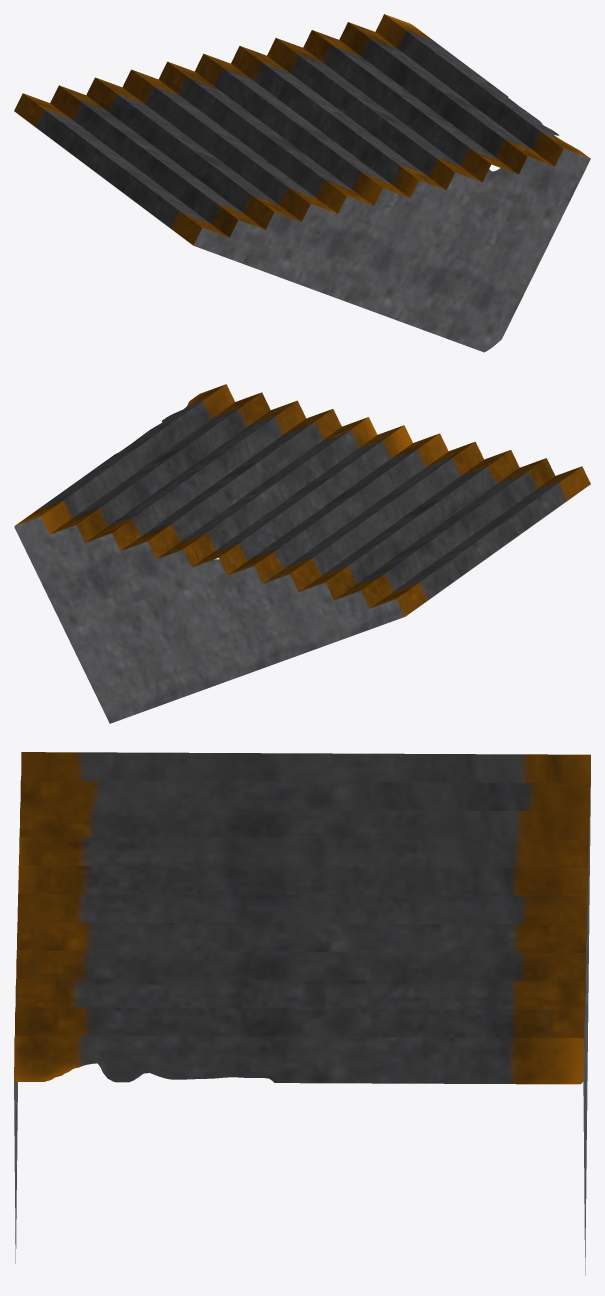
Rendered from window16.obj.
3 renders of one model, top to bottom at view 1: azimuth 30°, elevation 25°; view 2: azimuth 150°, elevation 25°; view 3: azimuth 270°, elevation 25°, orthographic. The views are drawn at different scales.
Parts seen in each view (by area): view 1: window16; view 2: window16; view 3: window16.
Boxes of the visible parts, box(x1,y1,x2,y2) form: window16: box(14, 14, 590, 352); window16: box(14, 384, 590, 723); window16: box(14, 752, 590, 1275).
Bounding box in the file's own units: 10.54 × 4.99 × 8.49.
